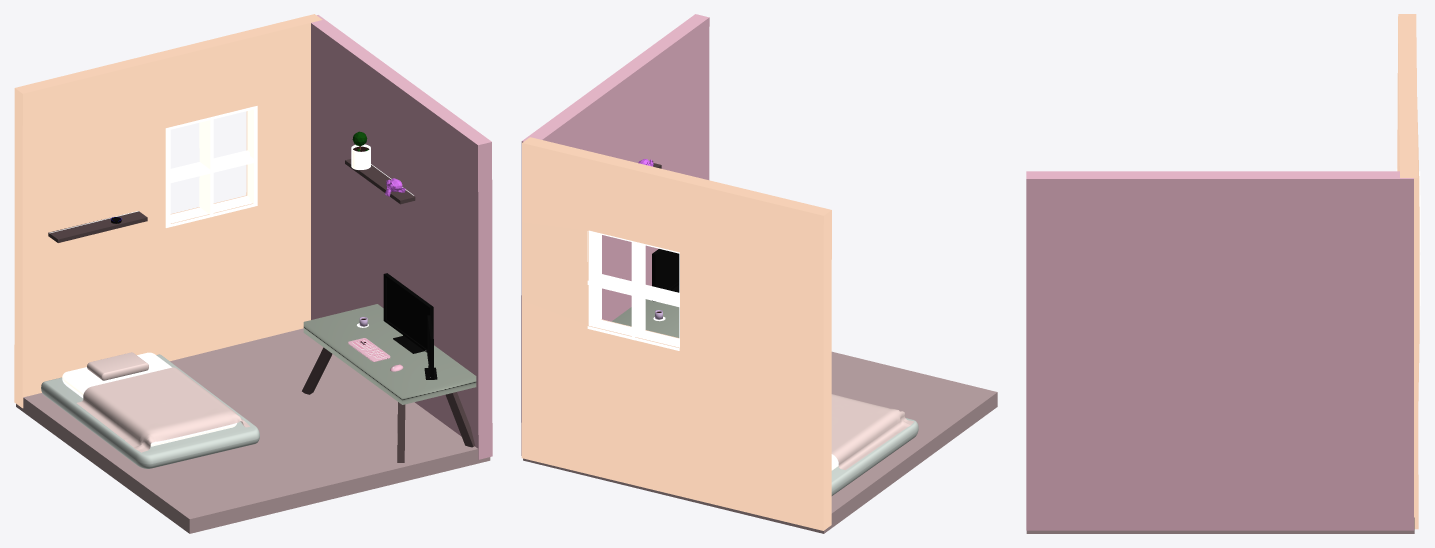
The model's file is room.glb.
3 renders of one model, left to right at view 1: azimuth 30°, elevation 25°; view 2: azimuth 150°, elevation 25°; view 3: azimuth 270°, elevation 25°, orthographic. The views are drawn at different scales.
Visible parts, largest first — view 1: middle wall, right wall, floor.001, sheet, Cube, Cube.070, Bed, Cube.006, mattress, Cube.131, pillow, Cube.132 (+2 smaller); view 2: middle wall, right wall, floor.001, Cube.070, sheet, Bed, Cube, Cube.006; view 3: right wall, middle wall, floor.001.
Boxes of the visible parts, left/top/right/bottom form: middle wall: left=14, top=14, right=322, bottom=408; right wall: left=311, top=15, right=492, bottom=459; floor.001: left=16, top=328, right=490, bottom=533; sheet: left=76, top=367, right=249, bottom=452; Cube: left=303, top=304, right=476, bottom=404; Cube.070: left=165, top=106, right=257, bottom=227; Bed: left=41, top=354, right=259, bottom=468; Cube.006: left=383, top=273, right=433, bottom=352; mattress: left=62, top=352, right=236, bottom=446; Cube.131: left=48, top=211, right=147, bottom=242; pillow: left=87, top=352, right=148, bottom=380; Cube.132: left=345, top=159, right=415, bottom=204; middle wall: left=521, top=137, right=831, bottom=530; right wall: left=521, top=14, right=709, bottom=455; floor.001: left=523, top=351, right=997, bottom=533; Cube.070: left=587, top=230, right=679, bottom=350; sheet: left=831, top=394, right=914, bottom=470; Bed: left=831, top=418, right=918, bottom=495; Cube: left=612, top=299, right=679, bottom=337; Cube.006: left=652, top=249, right=679, bottom=301; right wall: left=1026, top=171, right=1413, bottom=530; middle wall: left=1397, top=14, right=1419, bottom=529; floor.001: left=1026, top=517, right=1414, bottom=533.
Size of the model in its own units: 6.34 by 6.36 by 6.39.
